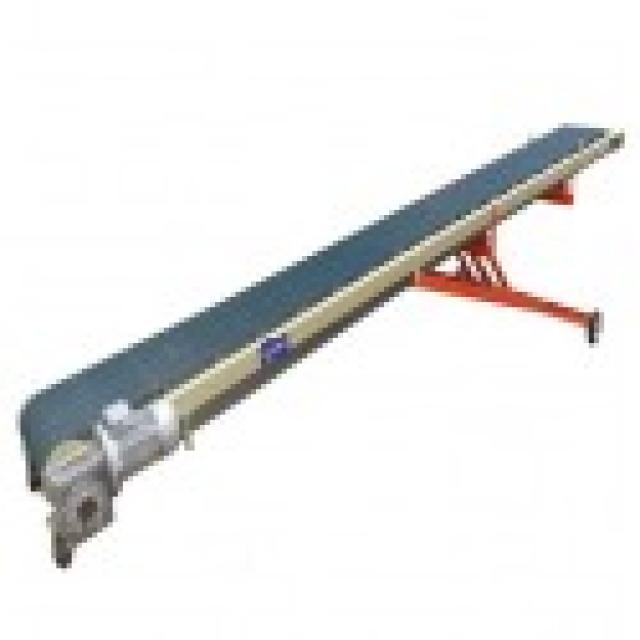Convoyeur: (14, 119, 627, 507)
